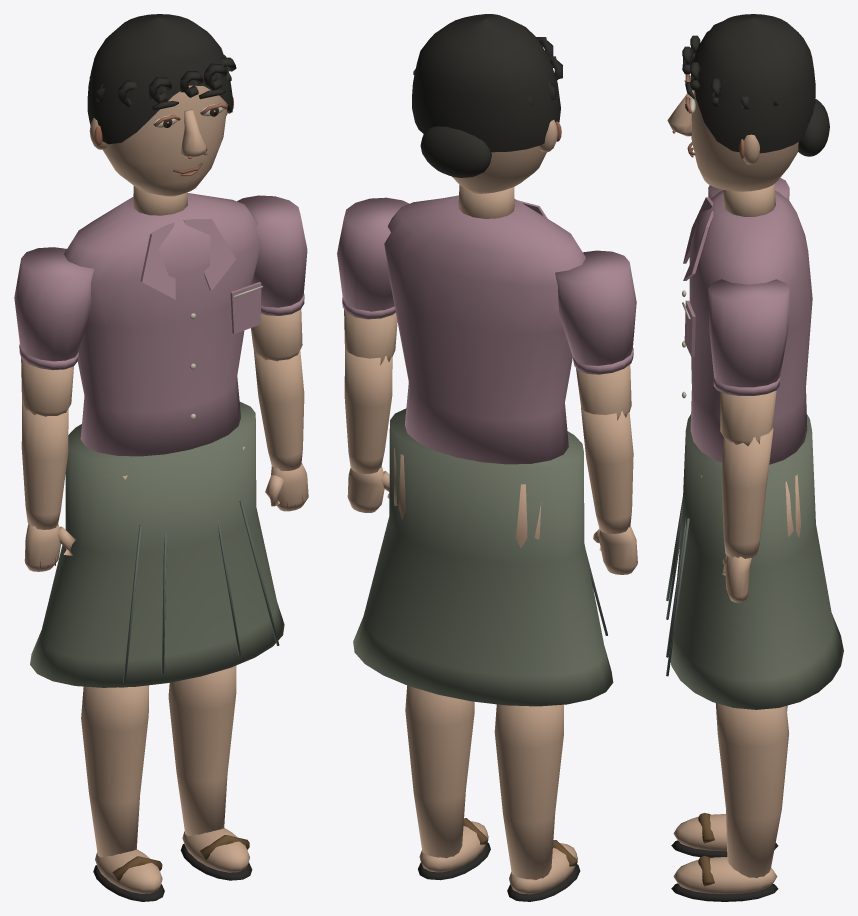
File: mao.glb
3 views of the same model, side by side, from view 1: azimuth 30°, elevation 25°; view 2: azimuth 150°, elevation 25°; view 3: azimuth 270°, elevation 25° (orthographic). The views are drawn at different scales.
Visible parts, largest first — view 1: body.007_mesh, head.007_mesh, shinL.007_mesh, shinR.007_mesh, armL.007_mesh, armR.007_mesh, forearmL.007_mesh, forearmR.007_mesh; view 2: body.007_mesh, head.007_mesh, shinL.007_mesh, shinR.007_mesh, armL.007_mesh, armR.007_mesh, forearmL.007_mesh, forearmR.007_mesh, legL.007_mesh; view 3: body.007_mesh, head.007_mesh, shinR.007_mesh, armR.007_mesh, forearmR.007_mesh, shinL.007_mesh, legR.007_mesh.
Part boxes in pixels (x1,y1,x2,y2): body.007_mesh: (30, 186, 284, 687); head.007_mesh: (87, 14, 236, 196); shinL.007_mesh: (81, 685, 164, 901); shinR.007_mesh: (168, 665, 252, 880); armL.007_mesh: (14, 247, 93, 416); armR.007_mesh: (237, 195, 307, 361); forearmL.007_mesh: (21, 400, 75, 571); forearmR.007_mesh: (254, 346, 308, 511); body.007_mesh: (353, 185, 613, 706); head.007_mesh: (412, 14, 562, 193); shinL.007_mesh: (494, 704, 580, 901); shinR.007_mesh: (405, 685, 490, 880); armL.007_mesh: (555, 250, 636, 420); armR.007_mesh: (337, 197, 408, 365); forearmL.007_mesh: (581, 407, 637, 574); forearmR.007_mesh: (344, 347, 392, 512); legL.007_mesh: (516, 484, 541, 547); body.007_mesh: (666, 184, 843, 709); head.007_mesh: (667, 14, 829, 191); shinR.007_mesh: (671, 703, 789, 901); armR.007_mesh: (708, 279, 789, 445); forearmR.007_mesh: (721, 427, 773, 602); shinL.007_mesh: (671, 705, 787, 857); legR.007_mesh: (700, 474, 800, 537).
Bounding box in the file's own units: 0.5349 × 1.53 × 0.2894.
